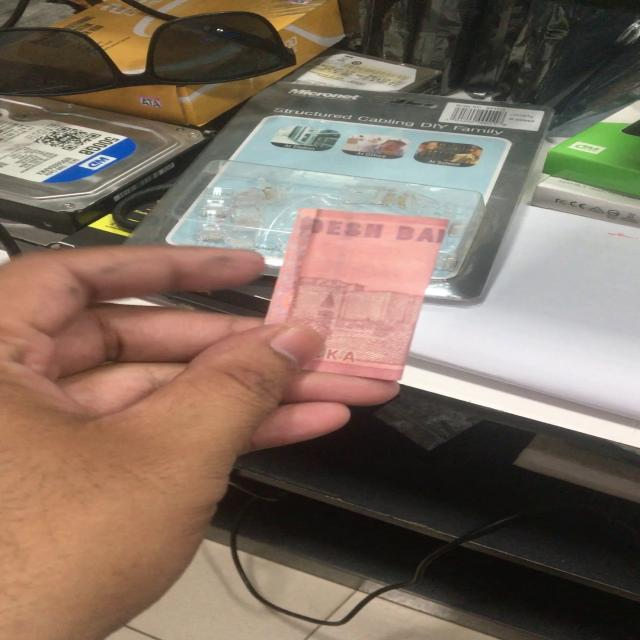Taka: (286, 203, 461, 387)
